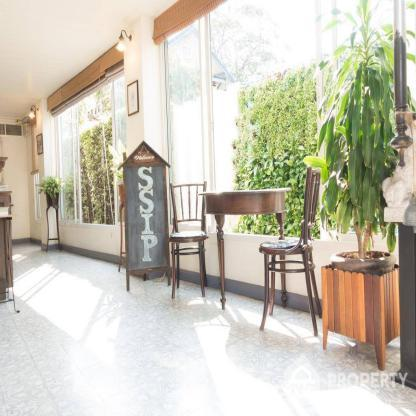chair: (258, 167, 330, 340), (159, 180, 211, 303)
light: (113, 27, 133, 56), (26, 104, 41, 125)
table: (197, 187, 292, 313), (320, 260, 404, 371)
